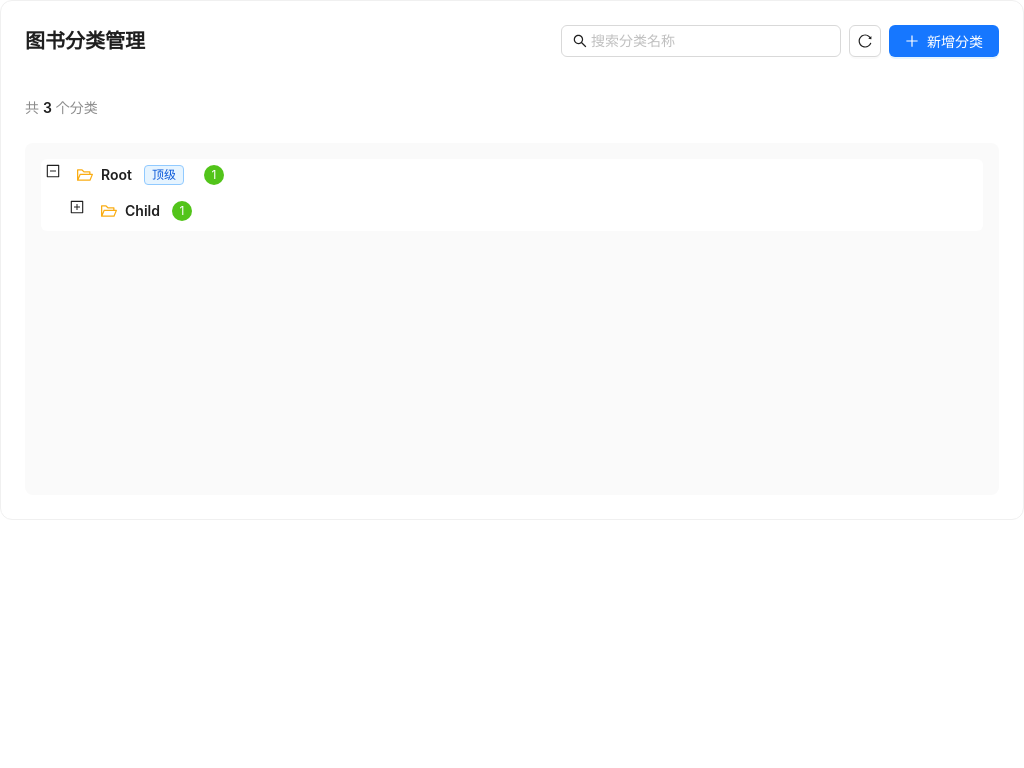
Test: CategoryList › cancels category modal
Expected: the text "Root" is shown, [101,166,132,183]
Click the button "新增分类": (944, 41) [889,25,999,57]
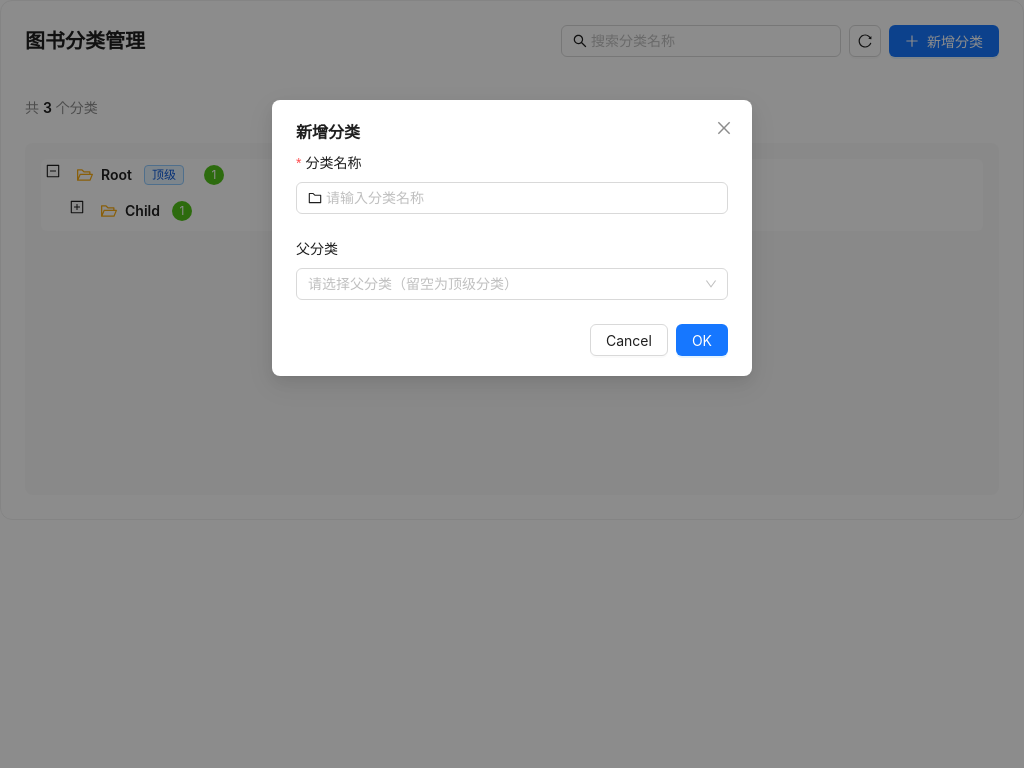
Expected: the field with placeholder "请输入分类名称" is shown, [326,187,716,209]
Click the button "Cancel": (629, 340) [590,324,668,356]
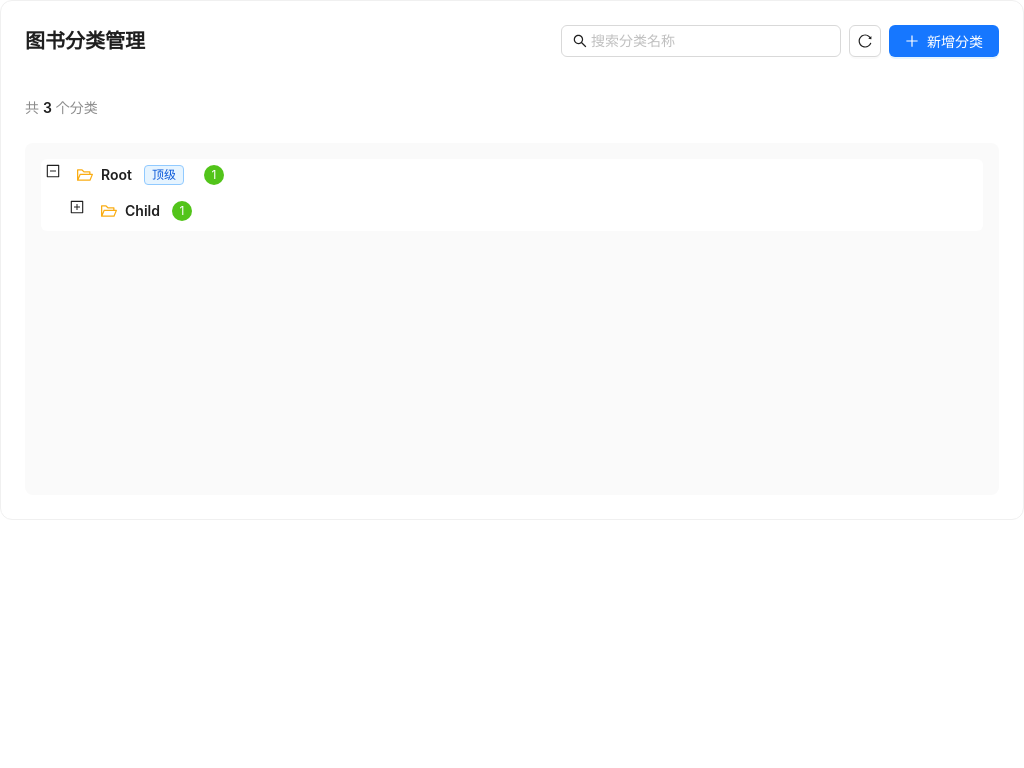
Expected: the field with placeholder "请输入分类名称" is gone
